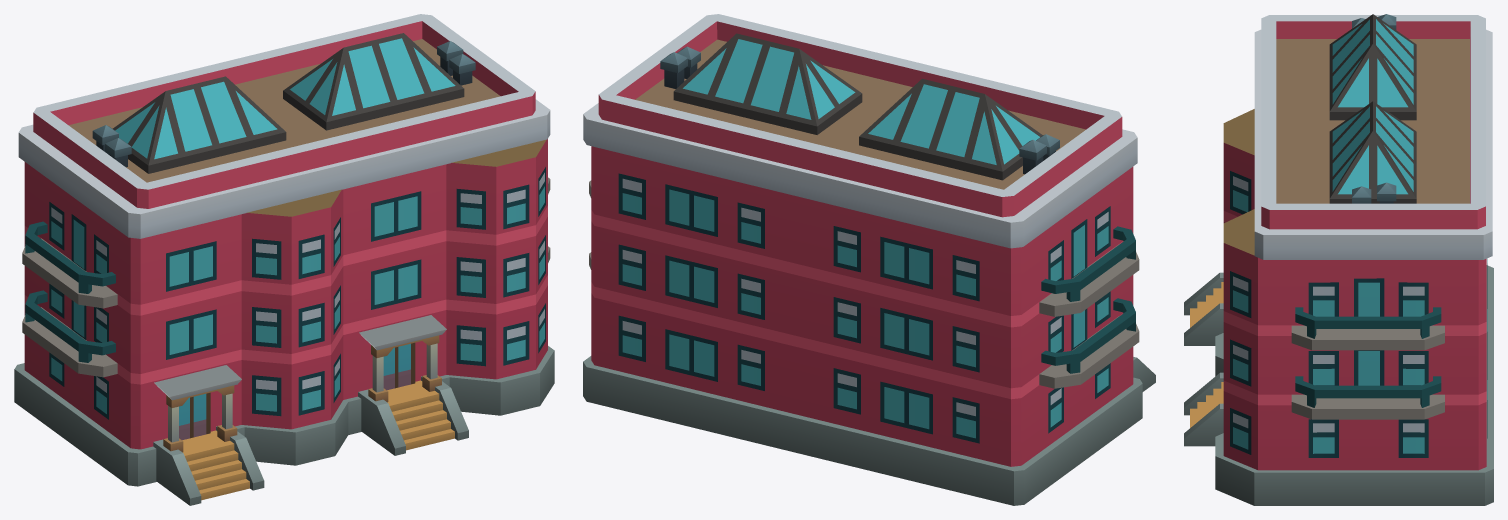
Rendered from Building_cartoon_32.fbx.
3 renders of one model, left to right at view 1: azimuth 30°, elevation 25°; view 2: azimuth 150°, elevation 25°; view 3: azimuth 270°, elevation 25°, orthographic. The views are drawn at different scales.
Visible parts, largest first — view 1: Building_cartoon_32; view 2: Building_cartoon_32; view 3: Building_cartoon_32.
Boxes of the visible parts, x1=… form: Building_cartoon_32: x1=14, y1=14, x2=554, y2=505; Building_cartoon_32: x1=583, y1=14, x2=1155, y2=505; Building_cartoon_32: x1=1184, y1=14, x2=1493, y2=505.
Bounding box in the file's own units: 2319 × 1547 × 1315.
